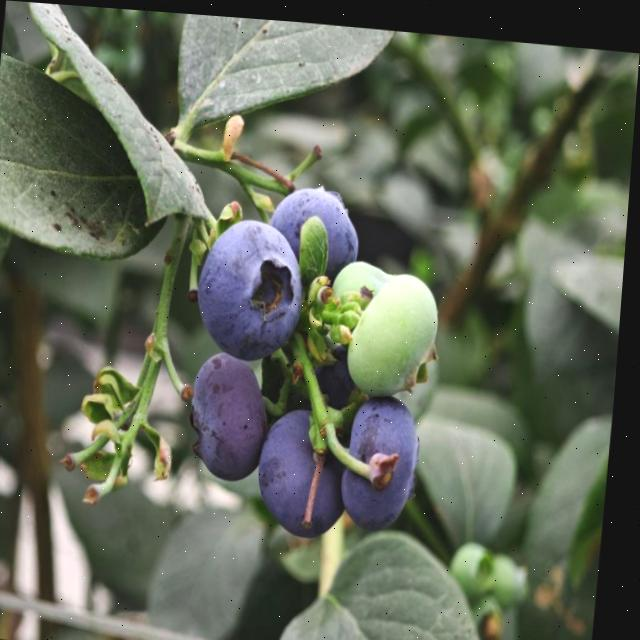RipeBlueBerry: (195, 211, 314, 361), (259, 400, 356, 535), (344, 386, 430, 527), (188, 347, 278, 481), (270, 178, 364, 267)
UnripeBlueBerry: (348, 259, 447, 395)
